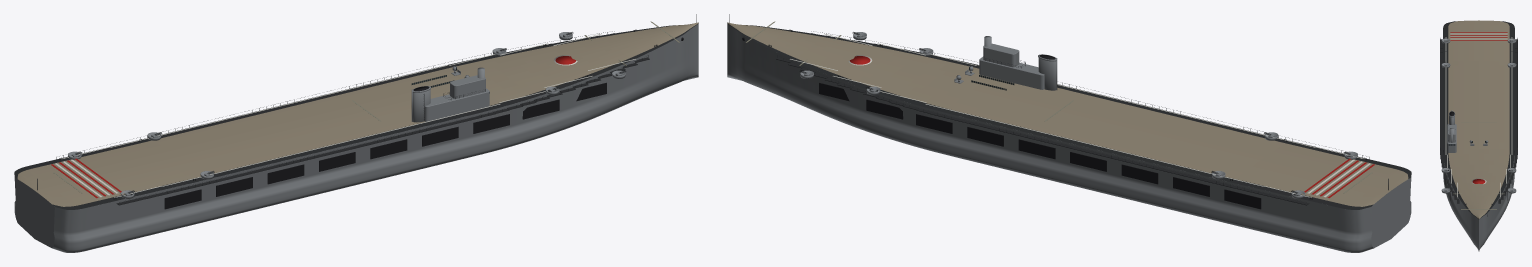
File: shinano.glb
3 views of the same model, side by side, from view 1: azimuth 30°, elevation 25°; view 2: azimuth 150°, elevation 25°; view 3: azimuth 270°, elevation 25° (orthographic). The views are drawn at different scales.
Visible parts, largest first — view 1: shinano; view 2: shinano; view 3: shinano.
Part boxes in pixels (x1=…): shinano: x1=14, y1=14, x2=698, y2=252; shinano: x1=727, y1=14, x2=1411, y2=252; shinano: x1=1440, y1=20, x2=1517, y2=251.
Bounding box in the file's own units: 266 × 31.49 × 43.3.
